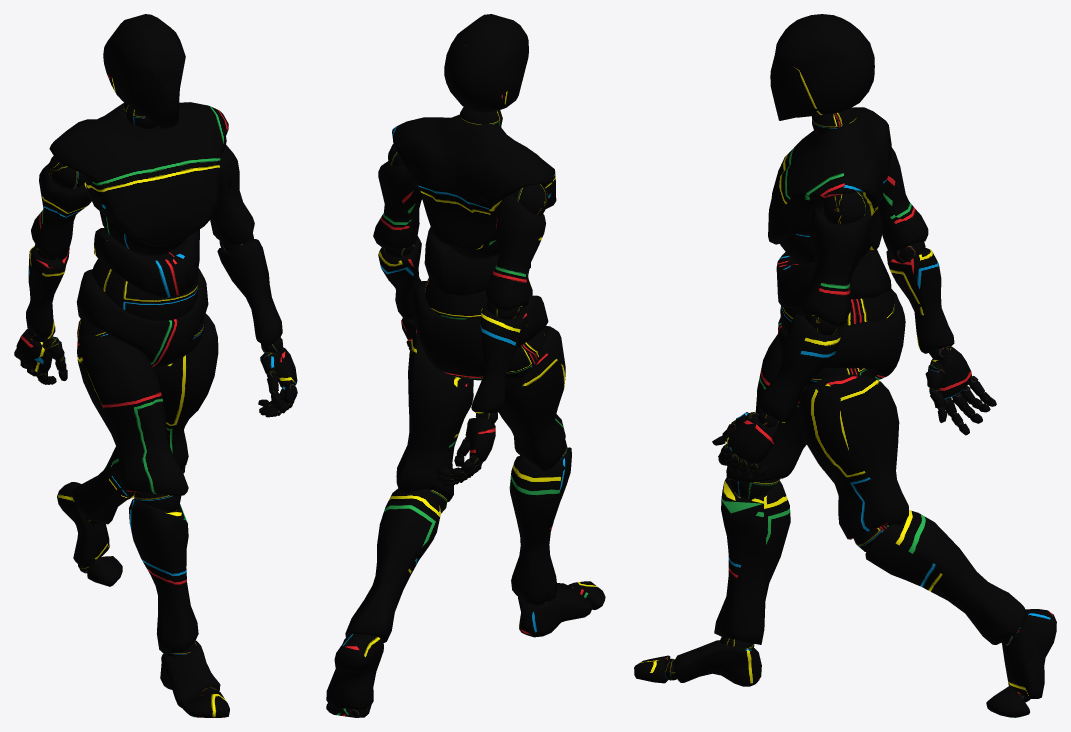
File: y-bot-origin_000009.obj
3 renders of one model, left to right at view 1: azimuth 30°, elevation 25°; view 2: azimuth 150°, elevation 25°; view 3: azimuth 270°, elevation 25°, orthographic. The views are drawn at different scales.
Parts seen in each view (by area): view 1: Alpha_Surface_Alpha_SurfaceMesh, Alpha_Joints_Alpha_JointsMesh; view 2: Alpha_Surface_Alpha_SurfaceMesh, Alpha_Joints_Alpha_JointsMesh; view 3: Alpha_Surface_Alpha_SurfaceMesh, Alpha_Joints_Alpha_JointsMesh.
Boxes of the visible parts, x1,y1,x2,y2 form: Alpha_Surface_Alpha_SurfaceMesh: (16,14,297,717); Alpha_Joints_Alpha_JointsMesh: (14,103,297,695); Alpha_Surface_Alpha_SurfaceMesh: (326,14,605,717); Alpha_Joints_Alpha_JointsMesh: (348,107,578,717); Alpha_Surface_Alpha_SurfaceMesh: (634,14,1056,717); Alpha_Joints_Alpha_JointsMesh: (664,107,1030,702).
Size of the model in its own units: 0.5538 by 1.74 by 0.998.
